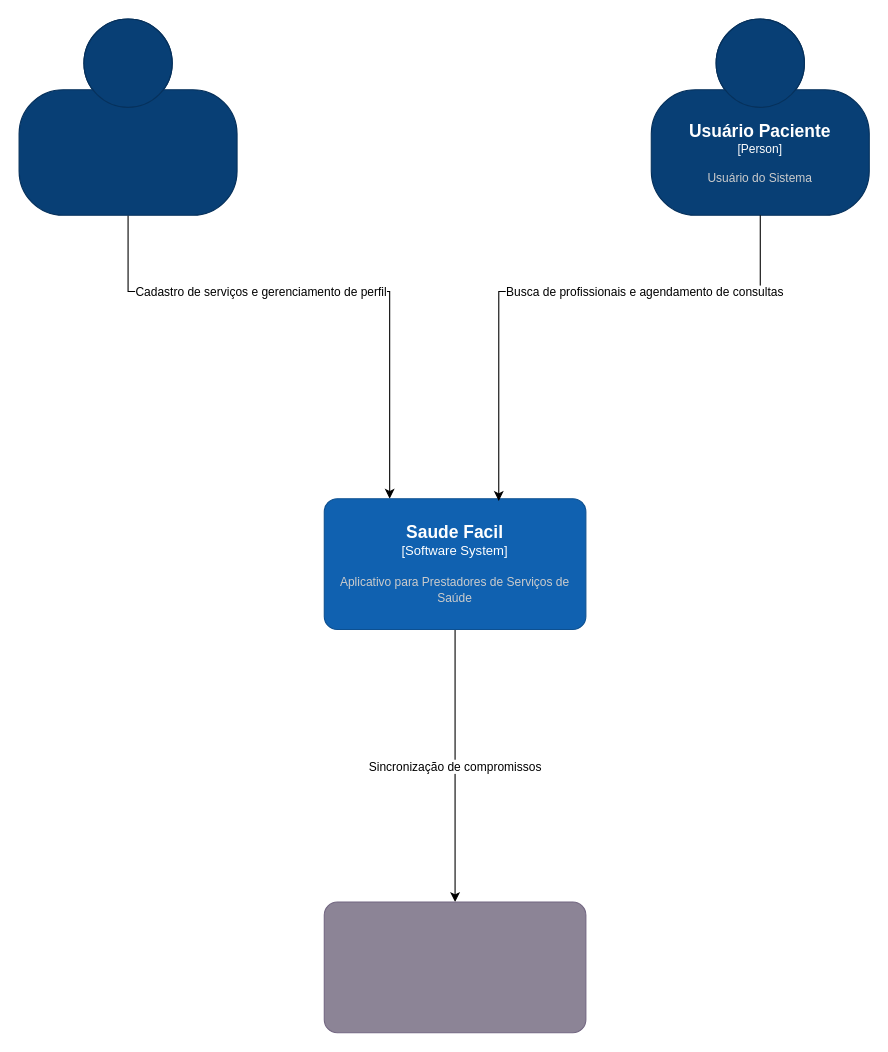
Image size: 888x1052. Some labels were removed from this diagram. Here are the shapes that lost their labels. From the top down, the box of each, then its label:
(18, 18, 237, 215): Profissional da Saúde [Persona] Usuario do Sistema
(323, 901, 586, 1033): Sistema de agendamento [Software System] Google Calendar API
